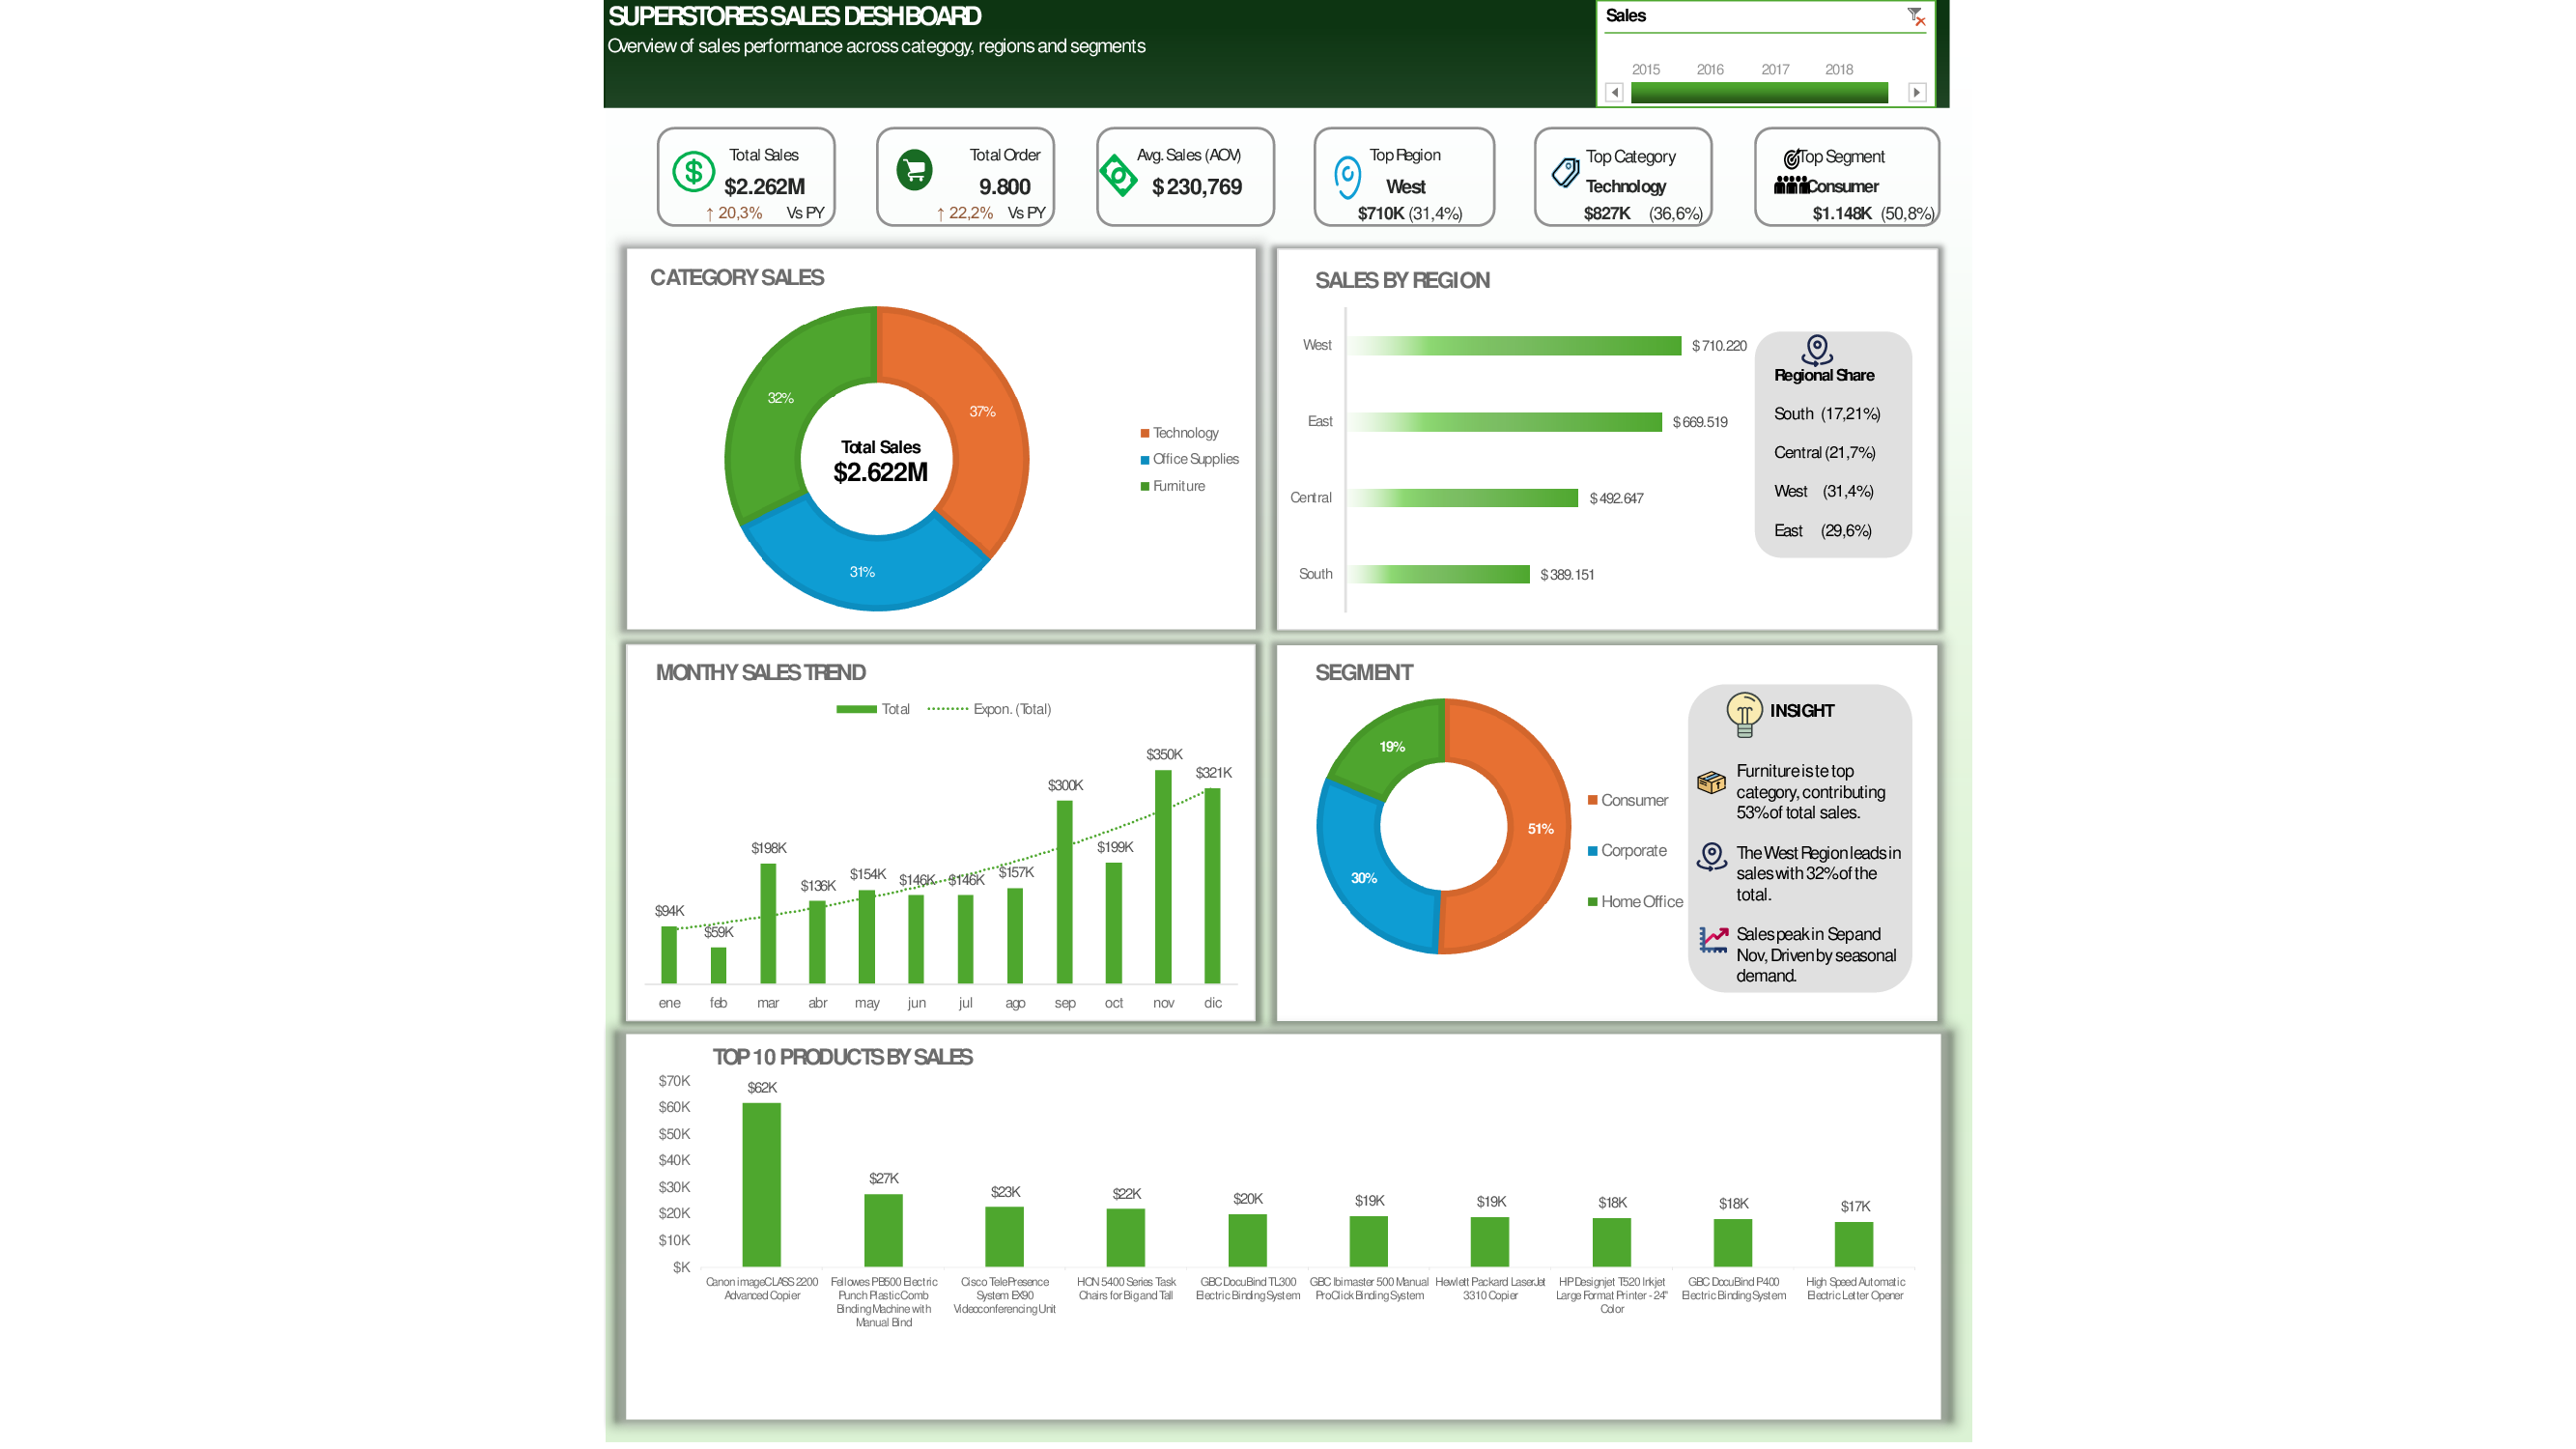

This screenshot's page, from the dashboard's own definition file:
{"tool":"powerbi","page":{"name":"Page 1","canvas":[1280,720],"ordinal":0},"visuals":[{"type":"cardVisual","fields":{"Data":["Data.Total Sales"]},"box":[4.3,55.7,240,100],"z":0},{"type":"cardVisual","fields":{"Data":["Data.Total Orders"]},"box":[257.5,55.7,240,100],"z":1000},{"type":"cardVisual","fields":{"Data":["Data.AOV"]},"box":[510.7,55.7,240,100],"z":2000},{"type":"pieChart","title":"Sales by Category","fields":{"Category":["Data.Category"],"Y":["Sum(Data.Sales)"]},"box":[628.2,434.4,628.2,285.9],"z":3000},{"type":"clusteredBarChart","title":"Sales by Region","fields":{"Category":["Data.Region"],"Y":["Sum(Data.Sales)"]},"box":[1.2,158.3,608.6,258.9],"z":4000},{"type":"lineChart","title":"Monthly Sales Trend","fields":{"Y":["Sum(Data.Sales)"],"Category":["Data.Order Date.Variation.Date Hierarchy.Month"]},"box":[628.2,160.7,628.2,256.4],"z":5000},{"type":"donutChart","title":"Sales by Segment","fields":{"Category":["Data.Segment"],"Y":["Sum(Data.Sales)"]},"box":[1.2,434.4,608.6,285.9],"z":6000},{"type":"slicer","fields":{"Values":["Data.Order Date.Variation.Date Hierarchy.Year"]},"box":[824.3,0,455.7,30],"z":7000},{"type":"cardVisual","fields":{"Data":["Data.Top Region"]},"box":[763.9,55.7,240,100],"z":8000},{"type":"cardVisual","fields":{"Data":["Data.Top Category"]},"box":[1017.1,55.7,240,100],"z":9000},{"type":"textbox","box":[4.3,0,525.7,55.7],"z":10000}]}

Visuals, with their boxes in screenshot pixels (x1, y1, x2, y2), scaled from the page's 1280x720 canvas onto the 2576x1449 screenshot:
cardVisual - Data.Total Sales: detection(9, 112, 492, 313)
cardVisual - Data.Total Orders: detection(519, 112, 1002, 313)
cardVisual - Data.AOV: detection(1028, 112, 1511, 313)
"Sales by Category" pieChart: detection(1264, 874, 2529, 1448)
"Sales by Region" clusteredBarChart: detection(3, 319, 1228, 839)
"Monthly Sales Trend" lineChart: detection(1264, 324, 2529, 839)
"Sales by Segment" donutChart: detection(3, 874, 1228, 1448)
slicer - Data.Order Date.Variation.Date Hierarchy.Year: detection(1659, 0, 2575, 61)
cardVisual - Data.Top Region: detection(1538, 112, 2021, 313)
cardVisual - Data.Top Category: detection(2047, 112, 2530, 313)
textbox: detection(9, 0, 1066, 112)
